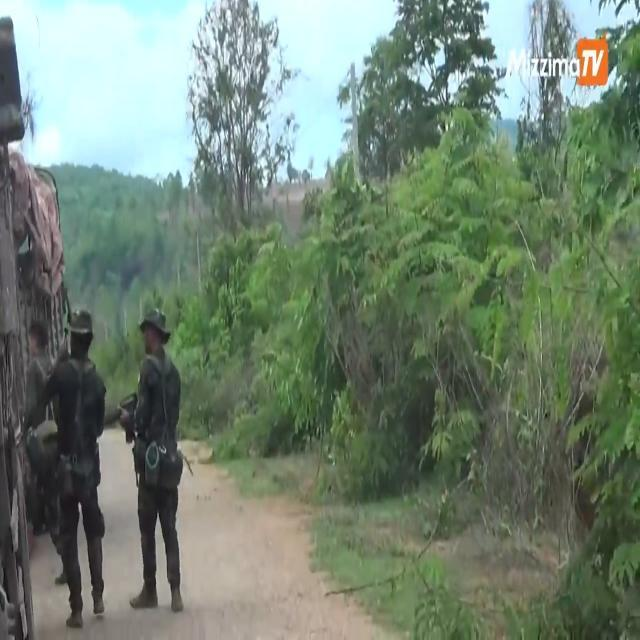MIL_Pax: (45, 311, 105, 629), (130, 309, 184, 613)
